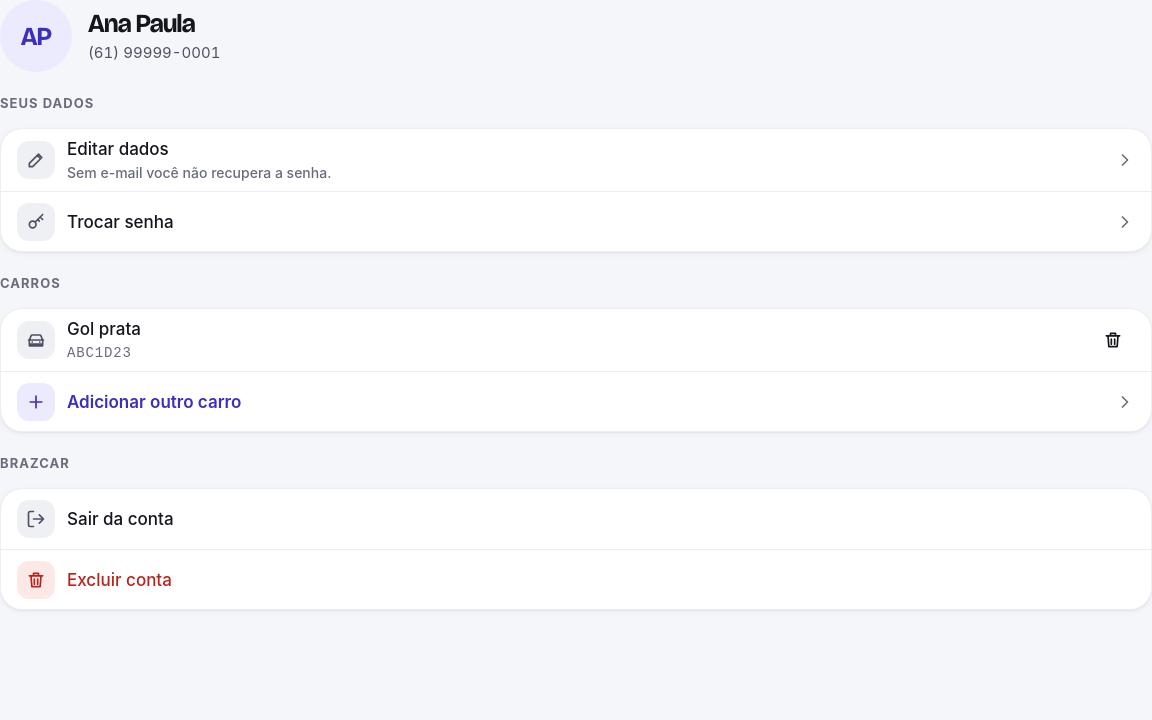
Test: AccountPanel, as the owner uses it › opens in reading; editing is asked for, and the sheet takes typing at once
Expected: the text "Ana Paula" is shown, [88, 8, 195, 38]
Expected: the field labelled "Nome social" is not shown
Click the button "Editar dados Sem e-mail você não recupera a senha.": {"x": 36, "y": 160} [1, 129, 1151, 191]
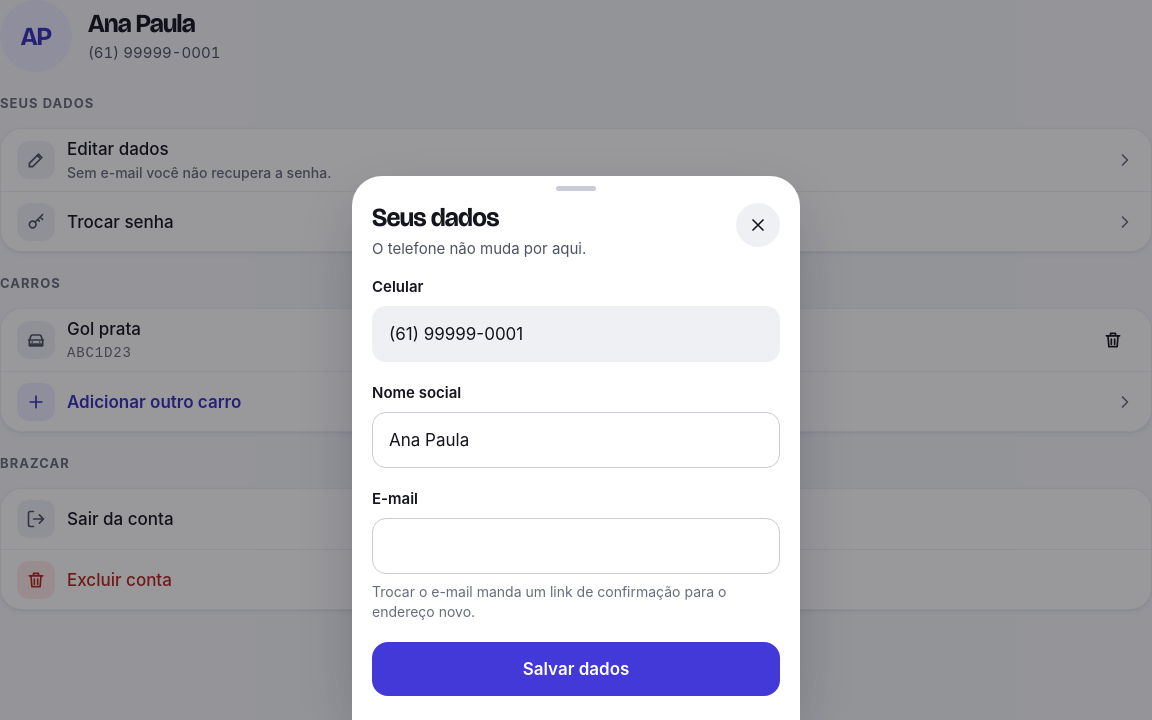
Click the field labelled "E-mail": {"x": 576, "y": 546} [389, 520, 763, 572]
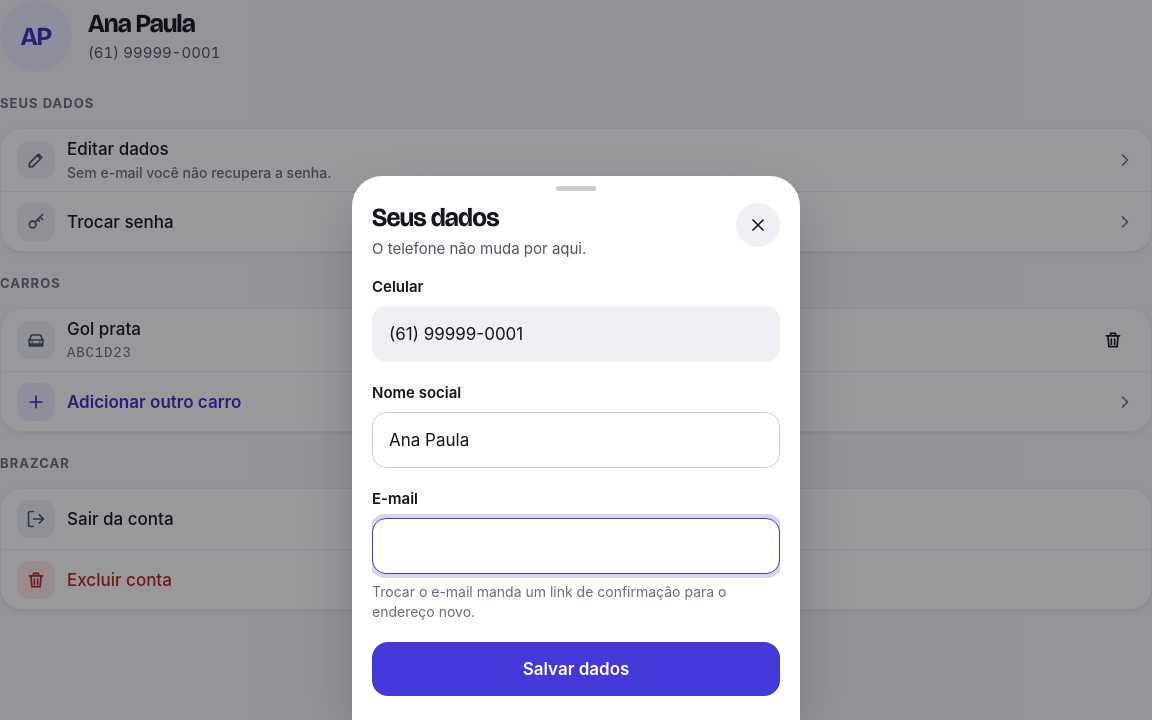
Type keys "ana@exemplo.com"
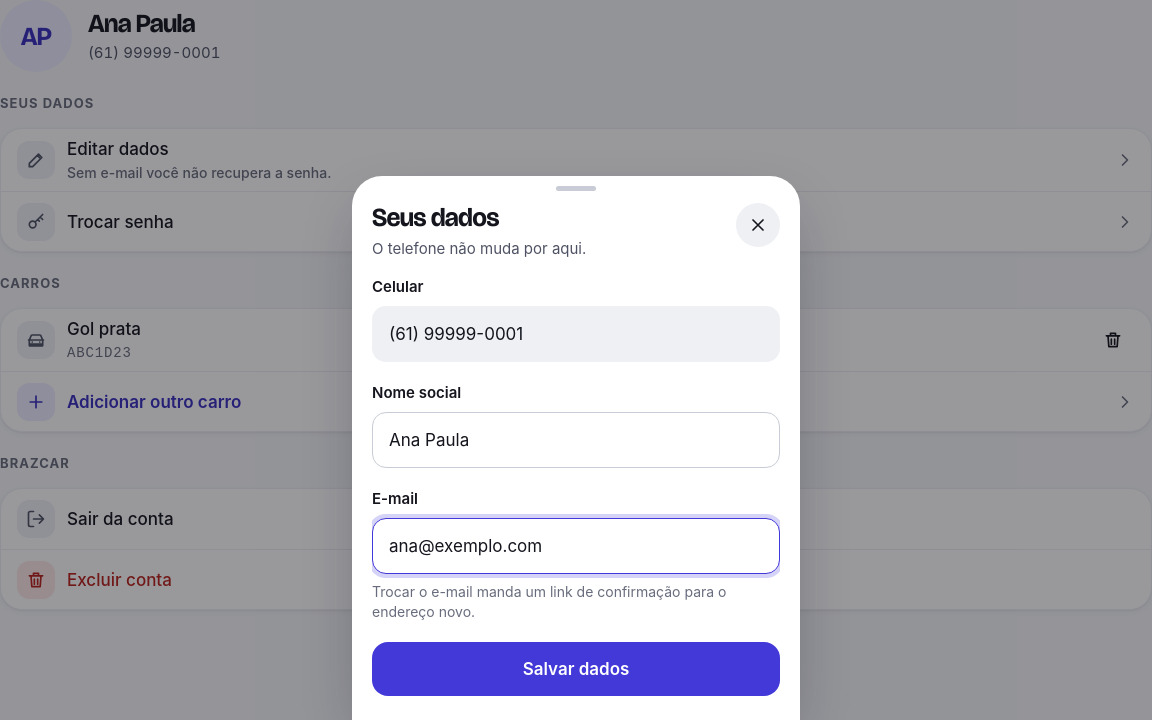
Click the button "Salvar dados": {"x": 576, "y": 669} [372, 642, 780, 696]
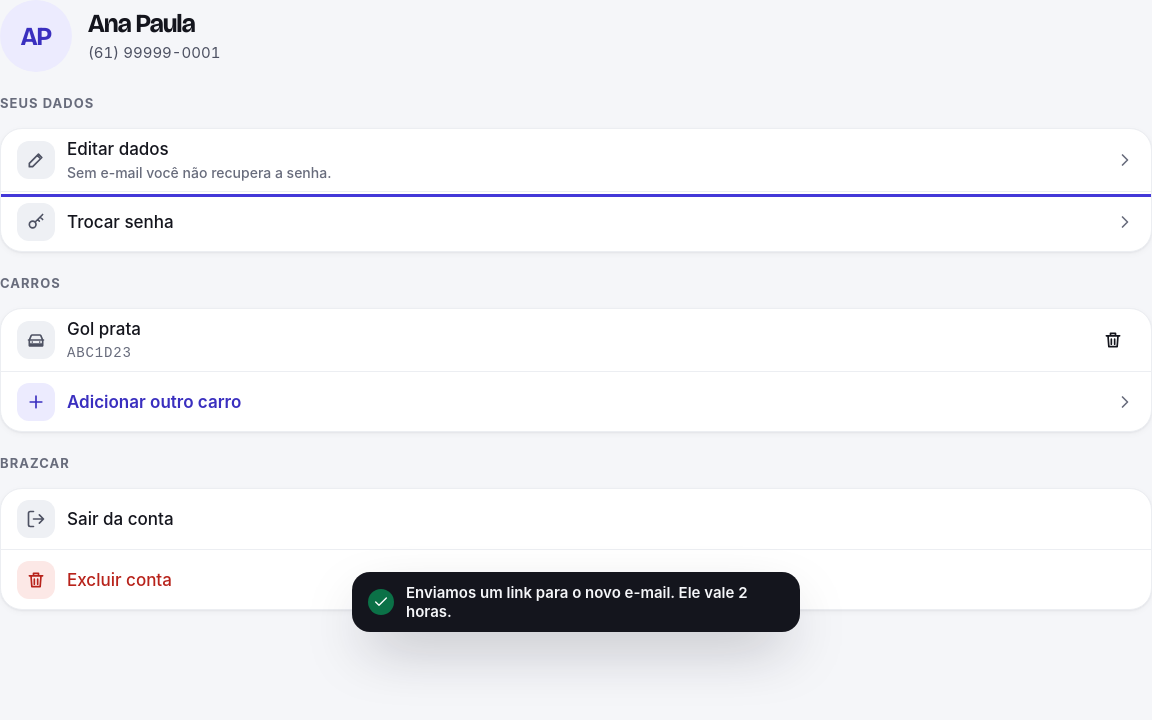
Expected: the text "Enviamos um link para o novo e-mail. Ele vale 2 horas." is shown, [406, 582, 790, 622]
Expected: the dialog is gone
